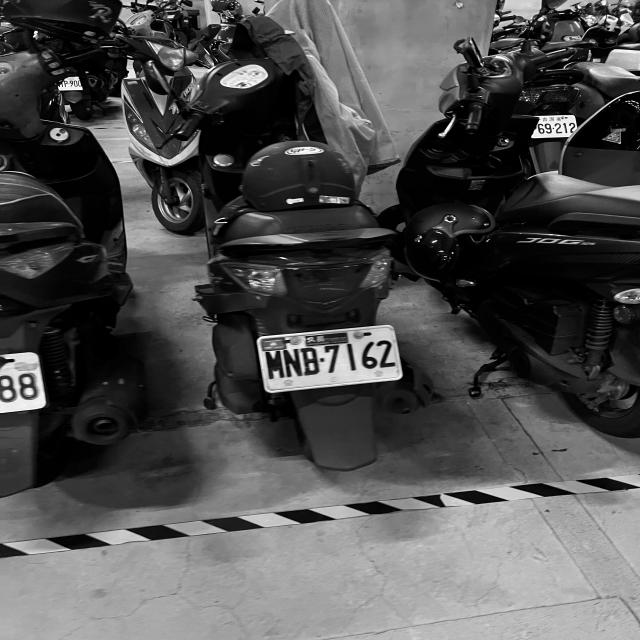-: (319, 356, 326, 364), (552, 127, 555, 130)
1: (345, 342, 359, 373), (563, 122, 568, 134)
2: (375, 337, 399, 370), (554, 123, 562, 134)
6: (358, 340, 380, 371), (537, 124, 545, 134)
7: (322, 343, 344, 375)
8: (14, 370, 45, 404)
9: (545, 123, 552, 134)
B: (299, 345, 323, 379)
M: (263, 349, 287, 381)
N: (281, 347, 304, 379)
plate: (259, 327, 401, 392)
